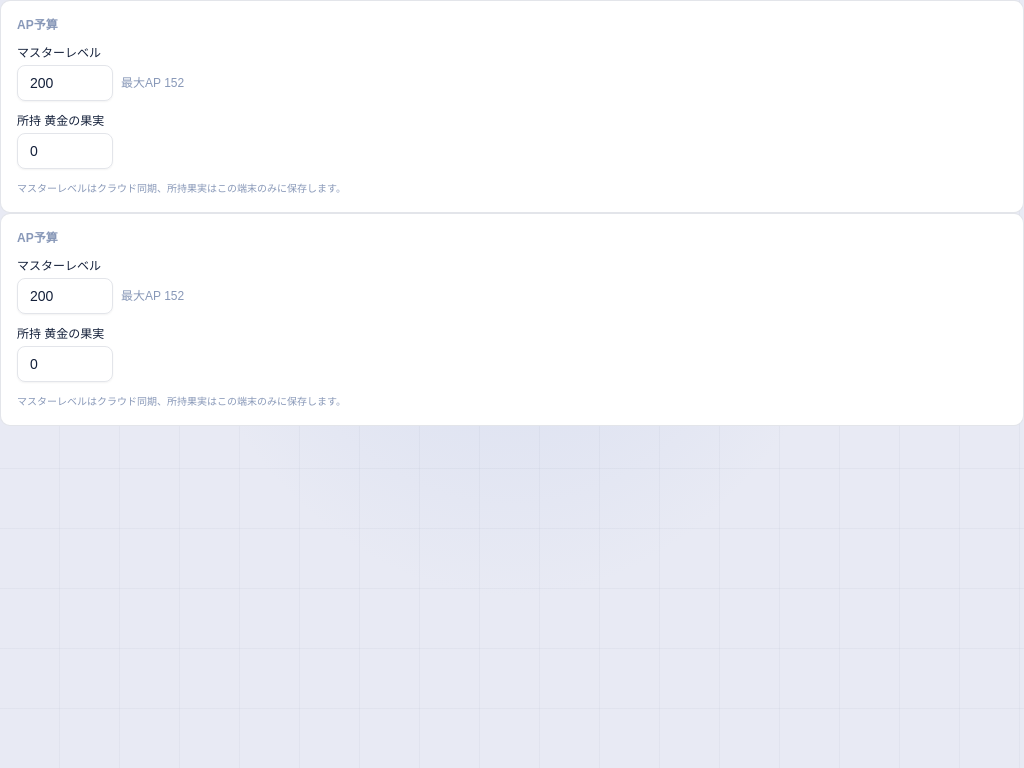
Scenario: ApBudgetInputs › 片方の入力欄で変えた所持数が、もう片方の入力欄にも同じ値で出る
Type "5" into the 1st number field named "所持 黄金の果実" at (65, 151), box [17,133,113,169]
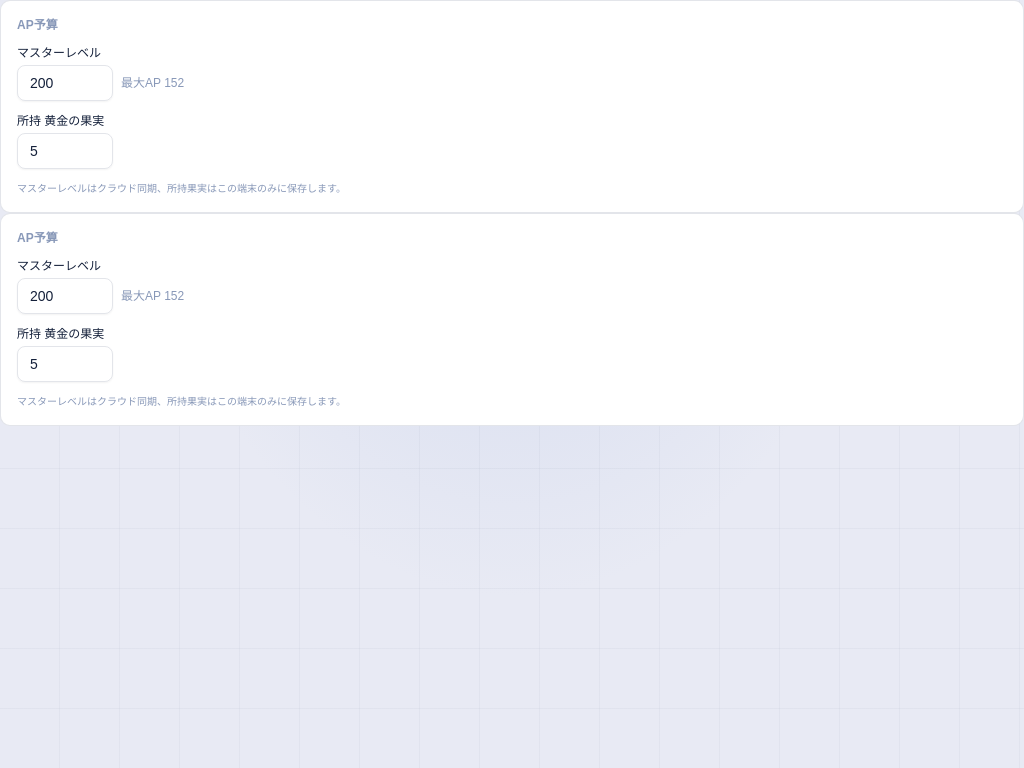
Expected: the 2nd number field named "所持 黄金の果実" holds "5", [17,346,113,382]
Replace the text in the 2nd number field named "マスターレベル" with "157" at (65, 296), box [17,278,113,314]
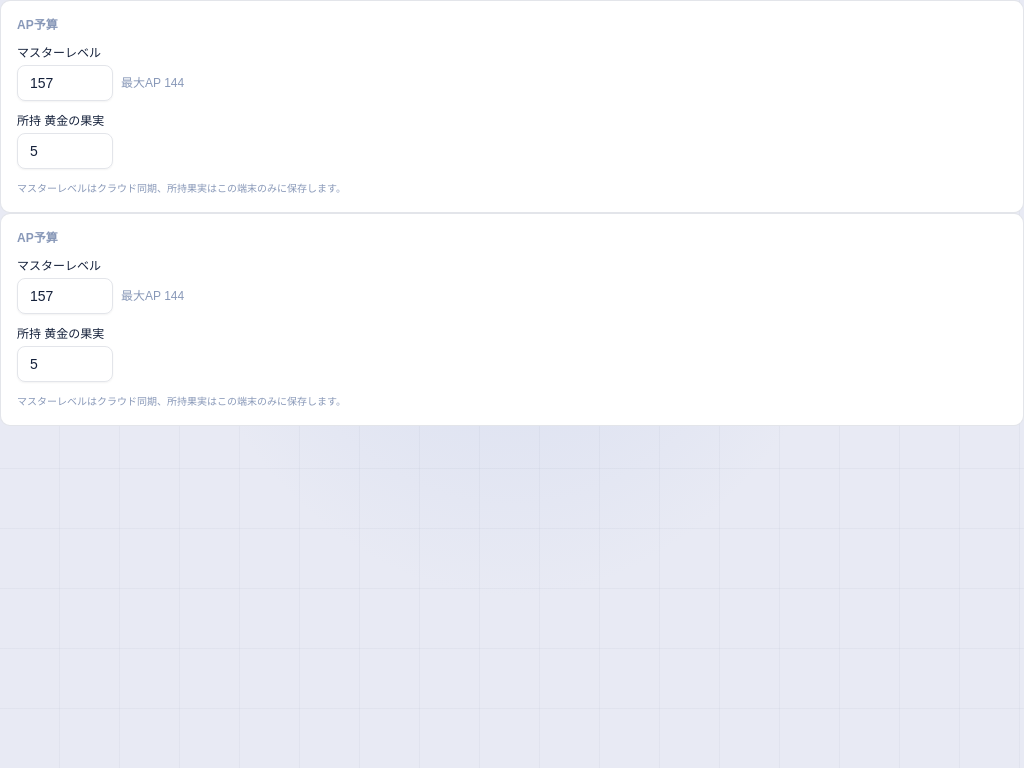
Expected: the 1st number field named "マスターレベル" holds "157", [17,65,113,101]
